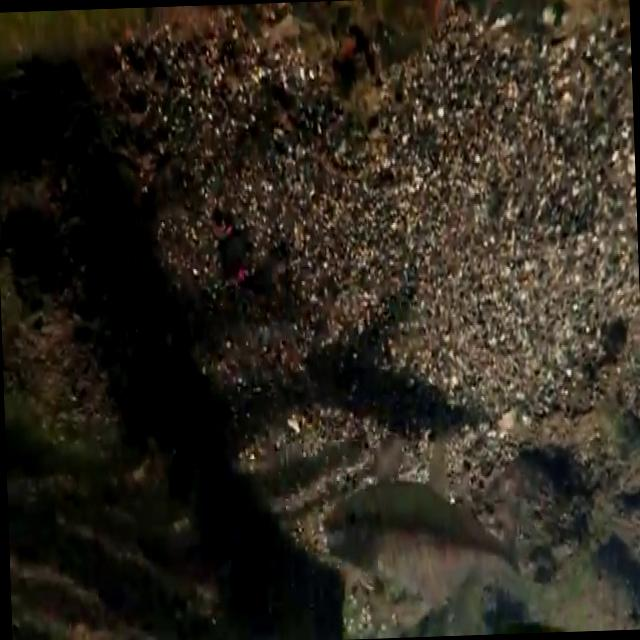Cakil Baligi: (314, 420, 520, 598)
